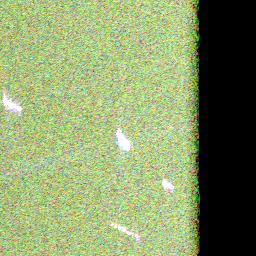Ship: (110, 219, 144, 243), (112, 130, 132, 155), (2, 95, 25, 114), (160, 177, 176, 193)
